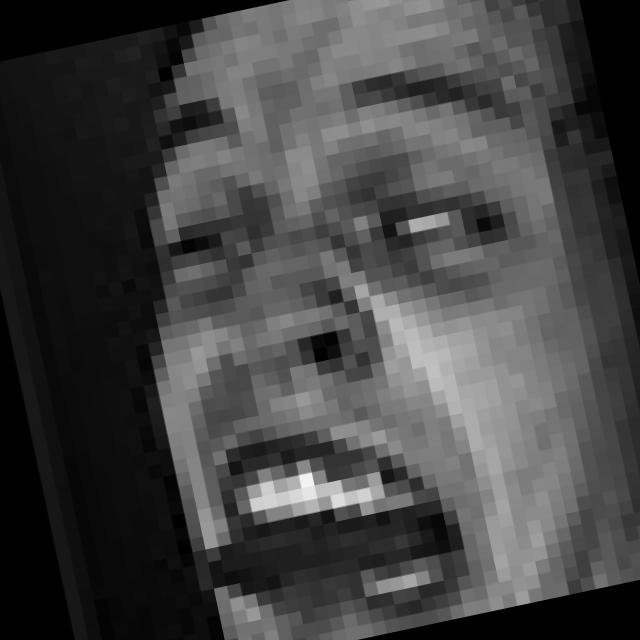disgust: (88, 25, 629, 640)
